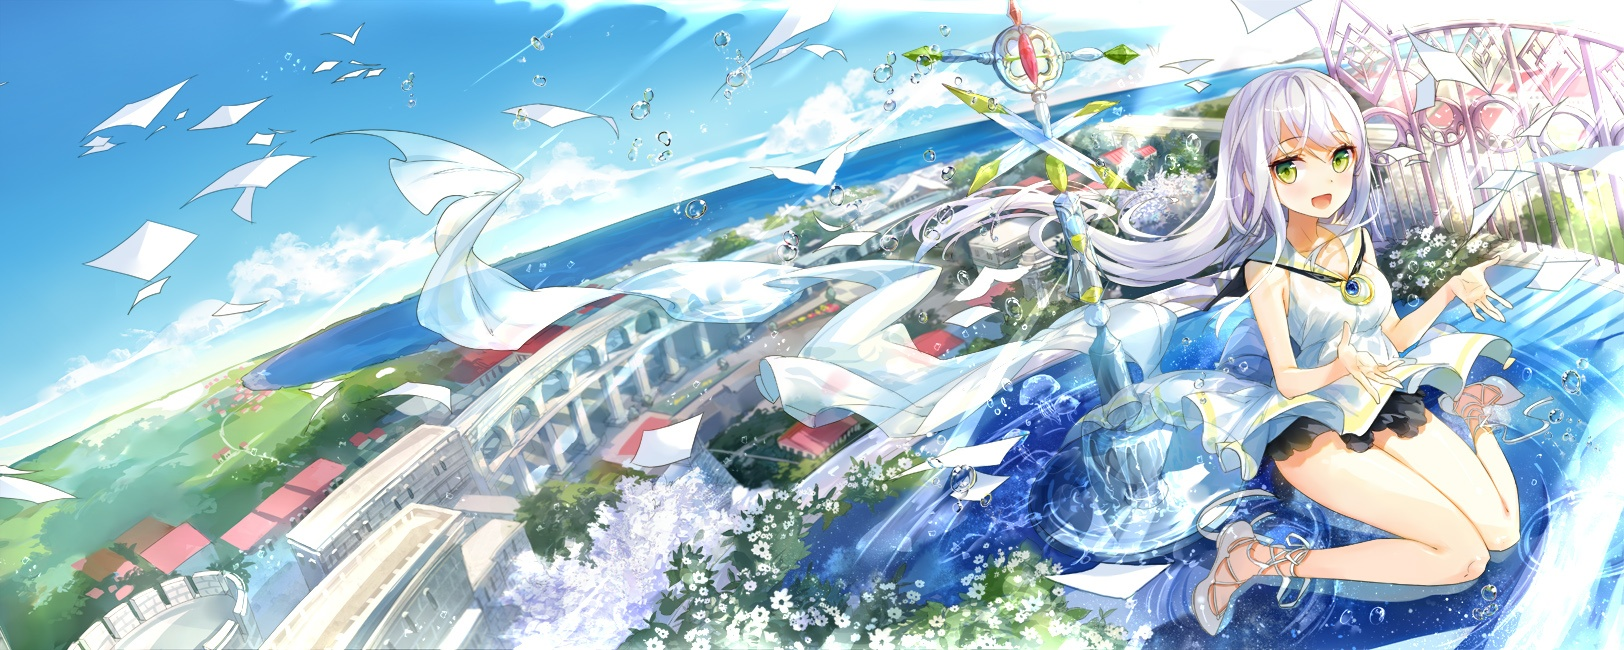纸片人正脸: (1219, 64, 1380, 229)
